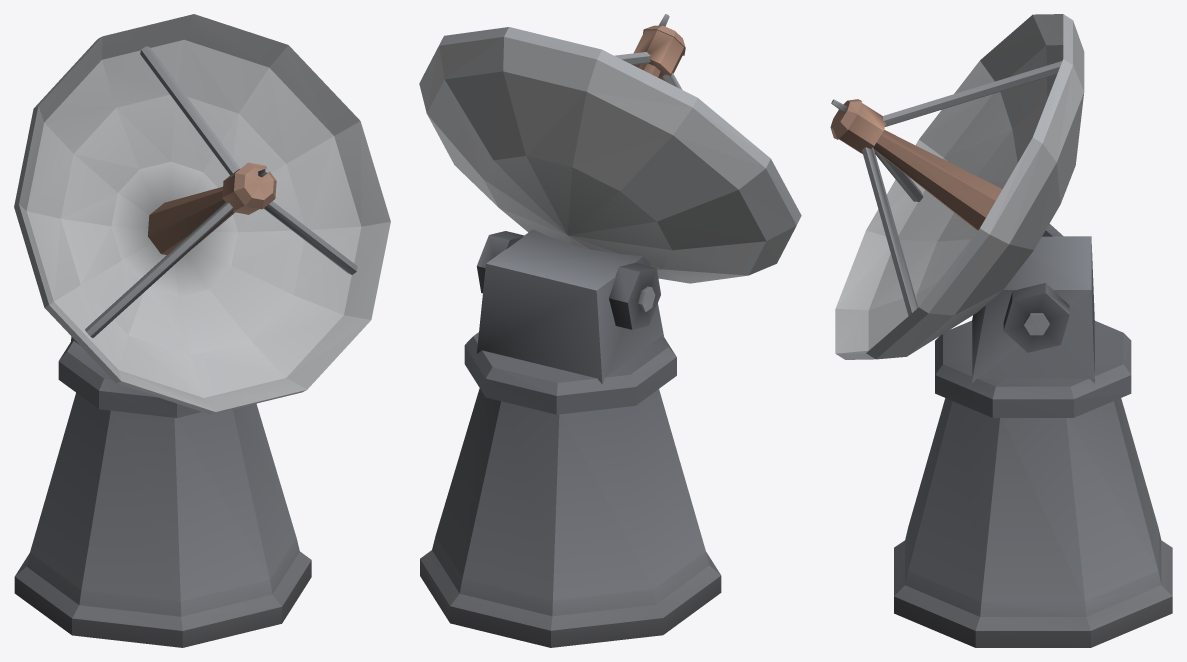
File: dish.glb
3 renders of one model, left to right at view 1: azimuth 30°, elevation 25°; view 2: azimuth 150°, elevation 25°; view 3: azimuth 270°, elevation 25°, orthographic.
Parts seen in each view (by area): view 1: dish.001; view 2: dish.001; view 3: dish.001.
Part boxes in pixels (x1,y1,x2,y2): dish.001: (14, 14, 390, 647); dish.001: (419, 14, 801, 647); dish.001: (830, 14, 1172, 647).
Size of the model in its own units: 5.1 by 7.83 by 4.39.
